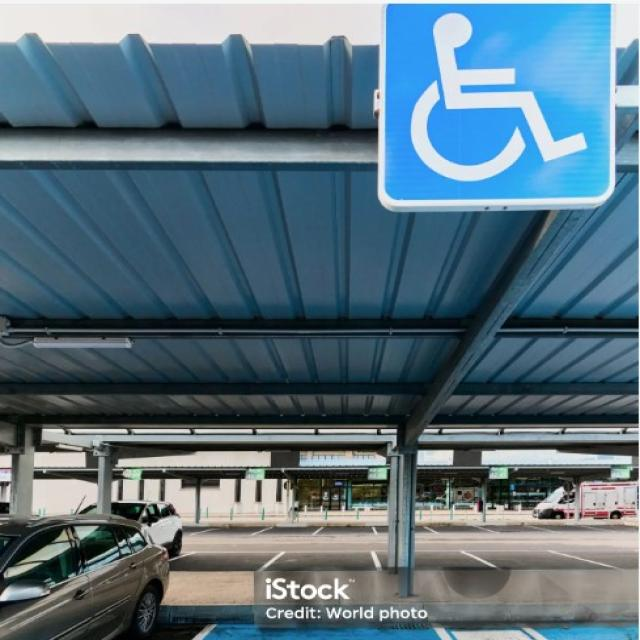symbol_of_access: (376, 2, 621, 212)
